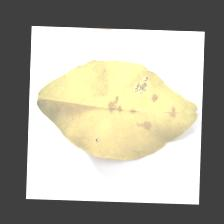black spot: (102, 68, 186, 141)
